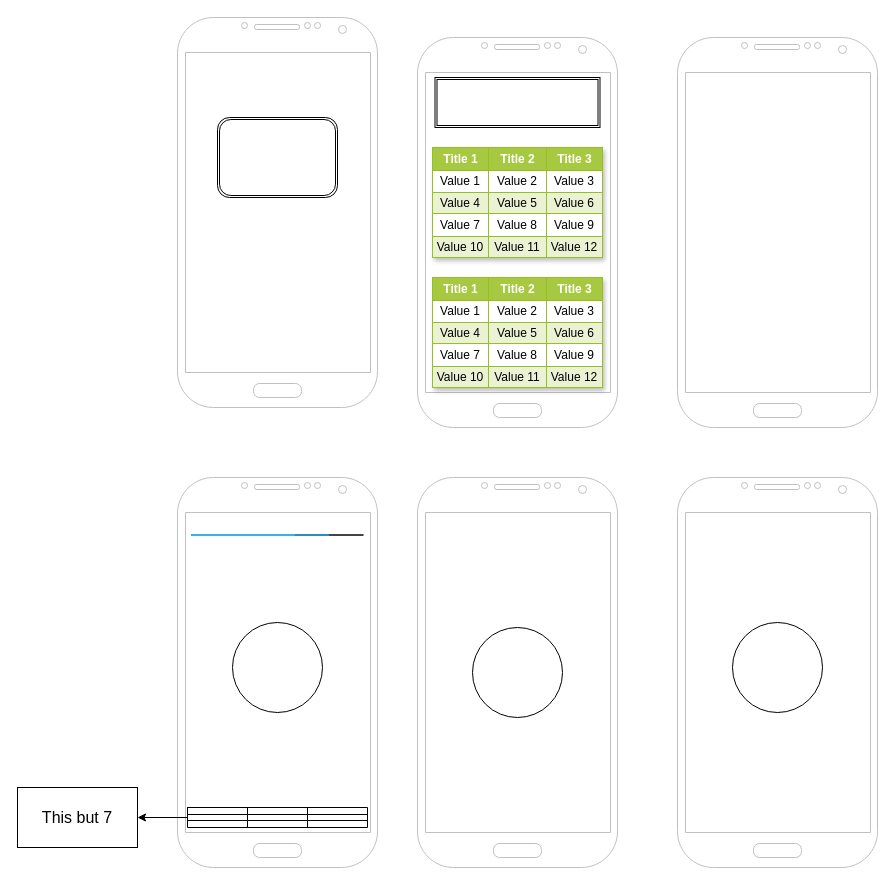
Image size: 895x885. Some labels were removed from this diagram. Each missing label, with the centre of its shape:
Sign in: [277,157]
Statistics over time: [517,102]
